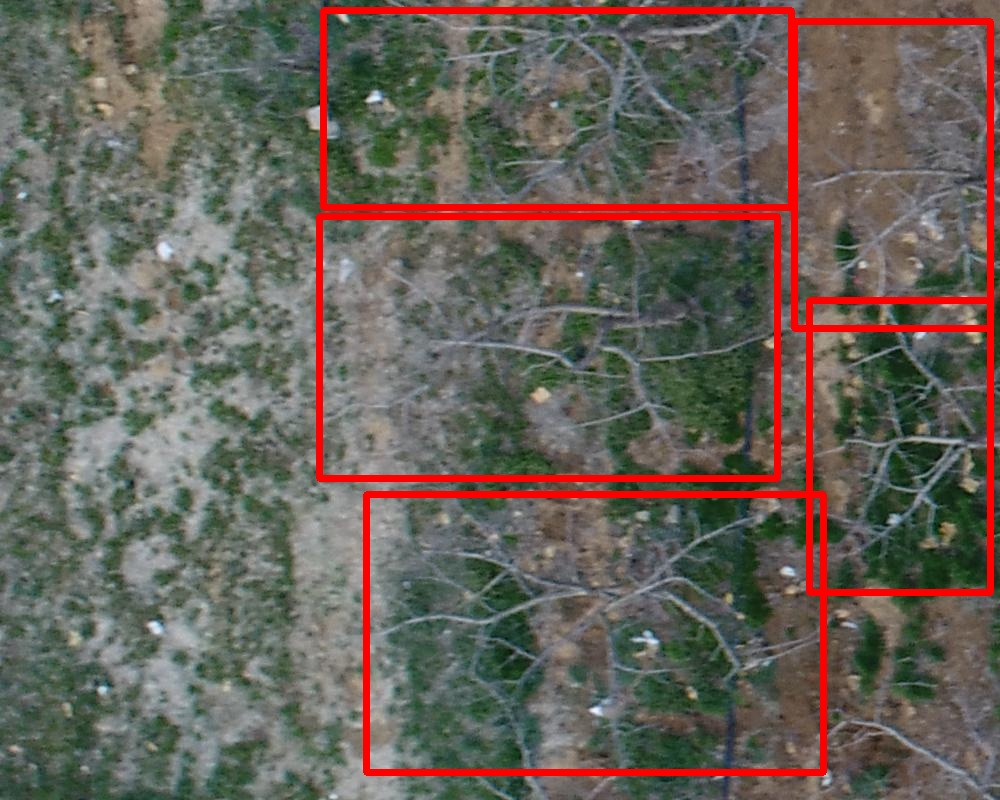apple: (366, 494, 823, 772), (319, 216, 777, 478), (323, 10, 791, 207), (794, 21, 990, 328), (809, 300, 990, 592)
